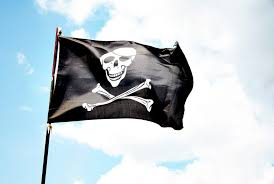Jolly Roger Flag: (46, 36, 196, 131)
